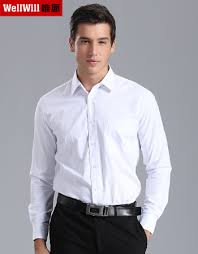F_belt: (53, 194, 143, 221)
F_shirt: (28, 66, 172, 243)
